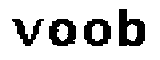b: (117, 6, 150, 49)
o: (81, 17, 112, 50), (48, 17, 78, 48)
v: (9, 15, 44, 48)
